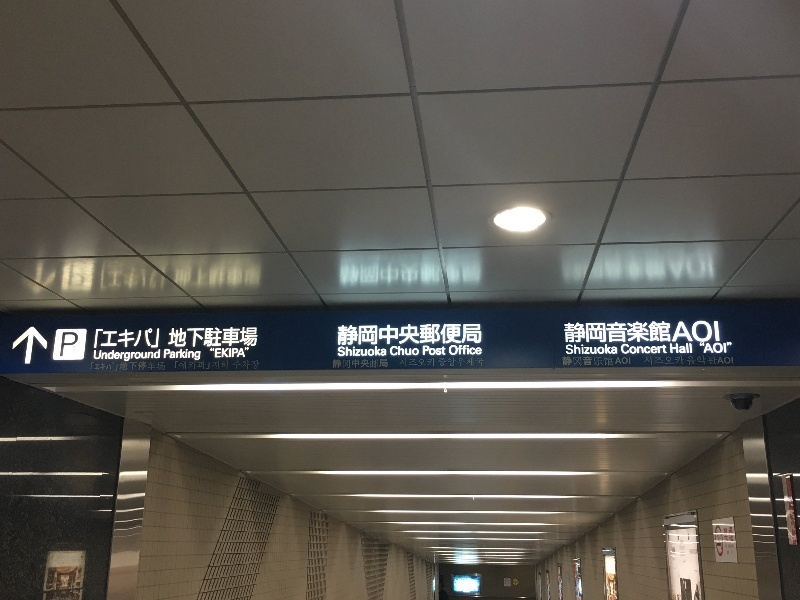text: (561, 249, 576, 284), (577, 249, 592, 284), (593, 249, 608, 284), (609, 249, 624, 284), (625, 249, 640, 284), (641, 249, 656, 284), (657, 249, 672, 284), (673, 249, 688, 284), (689, 249, 704, 284), (705, 249, 719, 284), (353, 256, 368, 285), (369, 256, 384, 285), (385, 256, 400, 285), (401, 256, 416, 285), (417, 256, 432, 285), (433, 256, 448, 285), (449, 256, 464, 285), (465, 256, 480, 285), (339, 256, 352, 285), (113, 265, 128, 289), (129, 265, 144, 289), (145, 265, 160, 289), (161, 265, 176, 289), (177, 265, 192, 289), (193, 265, 208, 289), (209, 265, 224, 289), (225, 265, 240, 289), (241, 265, 256, 289), (705, 321, 721, 343), (65, 332, 79, 357), (97, 327, 112, 349), (113, 327, 128, 349), (129, 327, 144, 349), (145, 327, 160, 349), (161, 327, 176, 349), (177, 327, 192, 349), (193, 327, 208, 349), (209, 327, 224, 349), (225, 327, 240, 349), (241, 327, 256, 349), (353, 324, 368, 346), (369, 324, 384, 346), (385, 324, 400, 346), (401, 324, 416, 346), (417, 324, 432, 346), (433, 324, 448, 346), (449, 324, 464, 346), (465, 324, 480, 346), (577, 321, 592, 343), (593, 321, 608, 343), (609, 321, 624, 343), (625, 321, 640, 343), (641, 321, 656, 343), (657, 321, 672, 343), (673, 321, 688, 343), (689, 321, 704, 343), (338, 324, 352, 346), (564, 321, 576, 343), (101, 265, 112, 289), (70, 262, 80, 288), (723, 527, 736, 542), (177, 348, 192, 361), (145, 350, 161, 362), (97, 350, 112, 362), (113, 350, 128, 362), (129, 350, 144, 362), (705, 342, 720, 354), (225, 347, 240, 358), (353, 346, 368, 357), (369, 346, 384, 357), (401, 346, 416, 357), (449, 345, 464, 356), (465, 345, 480, 356), (577, 344, 592, 355), (593, 344, 608, 355), (625, 344, 640, 355), (641, 344, 656, 355), (673, 343, 688, 354), (577, 356, 592, 367), (593, 356, 608, 367), (609, 356, 624, 367), (401, 357, 416, 368), (417, 357, 432, 368), (433, 357, 448, 368), (449, 357, 464, 368), (465, 357, 480, 368), (657, 355, 672, 366), (673, 355, 688, 366), (689, 355, 704, 366), (705, 355, 720, 366), (164, 348, 176, 361), (721, 342, 734, 354), (210, 347, 224, 358), (338, 346, 352, 357), (721, 355, 735, 366), (97, 362, 112, 372), (113, 362, 128, 372), (129, 362, 144, 372), (145, 362, 160, 372), (337, 359, 352, 369), (353, 359, 368, 369), (369, 359, 384, 369), (177, 360, 192, 370), (193, 360, 208, 370), (209, 360, 224, 370), (225, 360, 240, 370), (241, 360, 256, 370), (563, 356, 576, 367), (644, 355, 656, 366), (433, 346, 446, 356), (81, 262, 86, 288), (657, 344, 668, 355), (257, 265, 262, 289), (193, 348, 202, 361), (390, 346, 400, 357), (566, 344, 576, 355), (609, 344, 618, 355), (423, 346, 432, 356), (241, 347, 249, 358), (625, 356, 632, 367), (689, 549, 704, 554), (699, 342, 704, 354), (91, 362, 96, 372), (161, 362, 166, 372), (725, 544, 736, 548), (257, 327, 259, 349), (689, 343, 693, 354), (481, 357, 485, 368), (727, 551, 736, 555), (417, 346, 420, 357), (621, 344, 624, 355), (333, 359, 336, 369), (385, 359, 388, 369), (257, 360, 260, 370), (481, 256, 482, 285), (63, 332, 64, 357), (94, 350, 96, 362), (481, 324, 482, 346), (385, 346, 387, 357), (670, 343, 672, 354), (481, 345, 482, 356), (175, 360, 176, 370)
